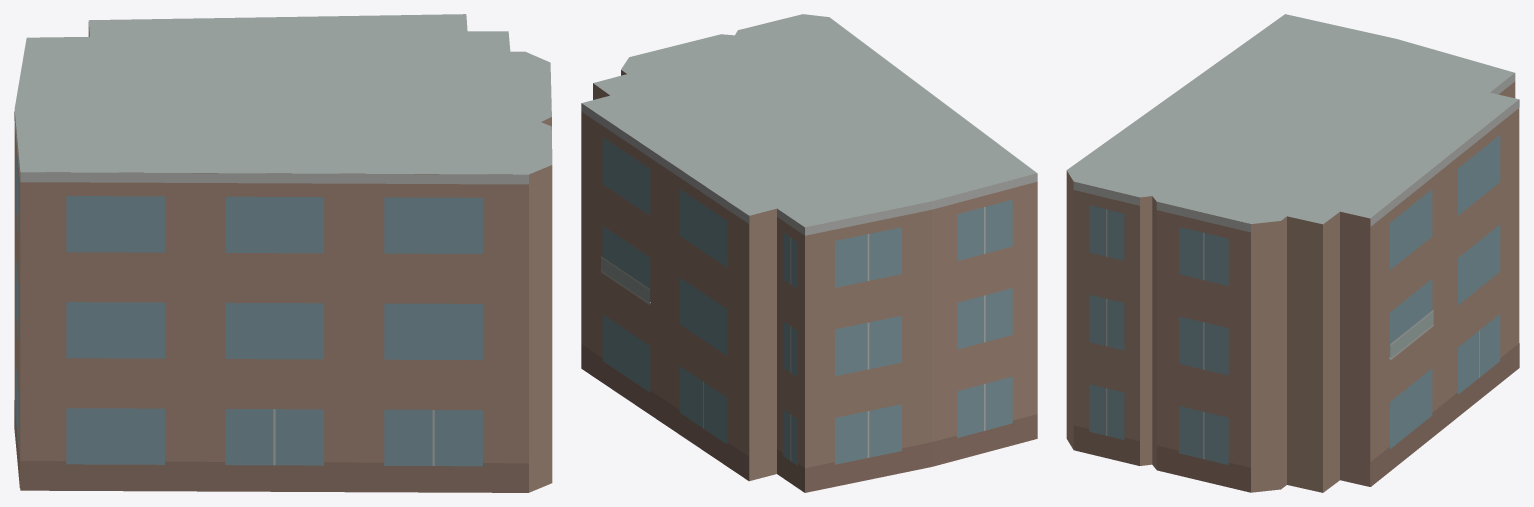
Rendered from survey-upis-32966766.glb.
The picture shows the model from 3 angles, left to right: view 1: azimuth 30°, elevation 25°; view 2: azimuth 150°, elevation 25°; view 3: azimuth 270°, elevation 25°; orthographic projection. The views are drawn at different scales.
Visible parts, largest first — view 1: survey-upis-32966766.tmp; view 2: survey-upis-32966766.tmp; view 3: survey-upis-32966766.tmp.
Boxes of the visible parts, box(x1,y1,x2,y2) form: survey-upis-32966766.tmp: box(14, 14, 552, 492); survey-upis-32966766.tmp: box(581, 14, 1037, 492); survey-upis-32966766.tmp: box(1066, 14, 1519, 492).
Bounding box in the file's own units: 13.1 × 7.8 × 11.92.
